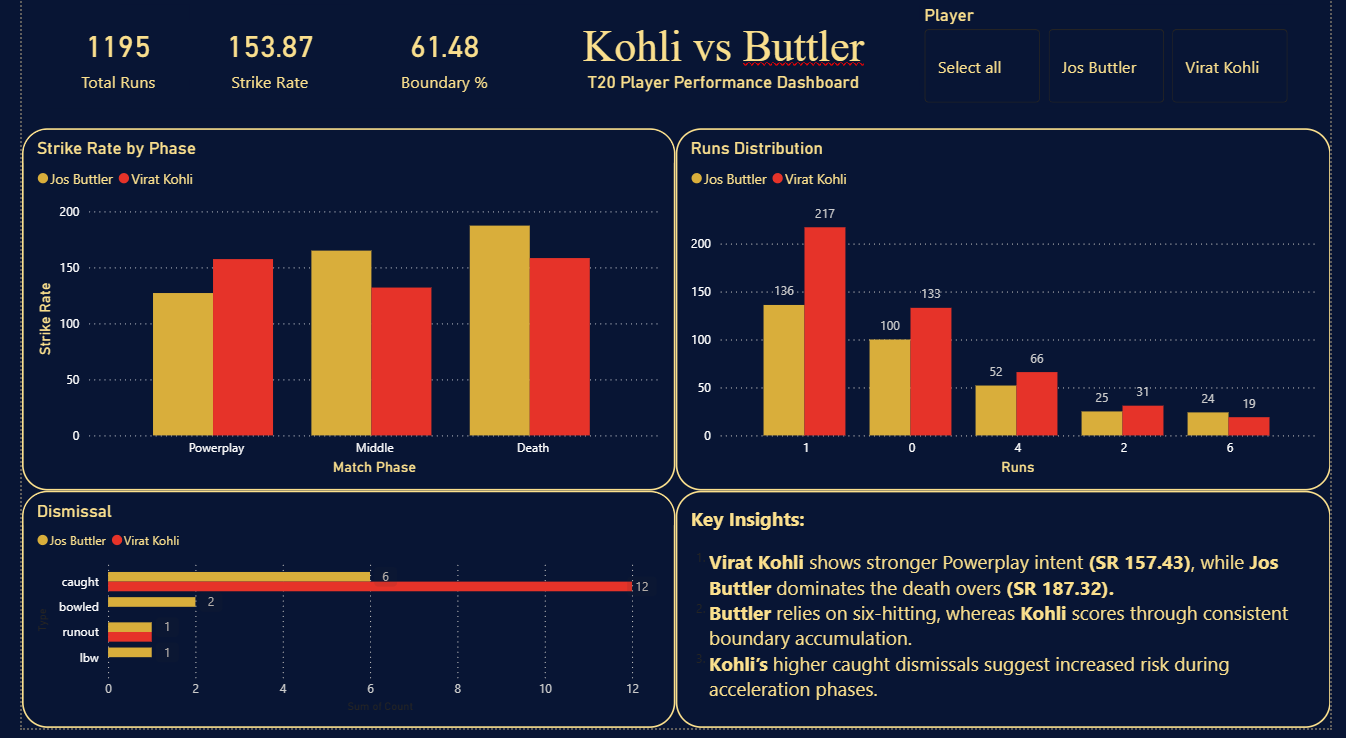

The page's visual inventory and layout, read from the dashboard file:
{"tool":"powerbi","page":{"name":"Page 2","canvas":[1280,720],"ordinal":1},"visuals":[{"type":"group","id":"g1","title":"Group 1","box":[24.5,12.2,479.4,101.5],"z":0},{"type":"card","title":"Total Runs","fields":{"Values":["Sum(summary.Runs)"]},"box":[24.5,12.2,140,101.5],"z":0,"group":"g1"},{"type":"advancedSlicerVisual","fields":{"Values":["summary.Player"]},"box":[887.8,11,365.6,101.5],"z":1000},{"type":"card","fields":{"Values":["Avg(summary.Strike Rate)"]},"box":[164.5,12.2,157.8,101.5],"z":1000,"group":"g1"},{"type":"card","fields":{"Values":["Avg(summary.Boundary %)"]},"box":[322.3,12.2,181.1,101.5],"z":2000,"group":"g1"},{"type":"clusteredColumnChart","title":"Strike Rate by Phase","fields":{"Category":["phase.match phase"],"Y":["Sum(phase.Strike Rate)"],"Series":["phase.Player"]},"box":[0,152.3,639.5,355.4],"z":2000},{"type":"clusteredColumnChart","title":"Runs Distribution","fields":{"Category":["distribution.Runs"],"Y":["Sum(distribution.Count)"],"Series":["distribution.Player"]},"box":[639.5,152.3,640.8,355.4],"z":3000},{"type":"clusteredBarChart","title":"Dismissal","fields":{"Category":["dismissal.Type"],"Y":["Sum(dismissal.Count)"],"Series":["dismissal.Player"]},"box":[0,507.7,639.5,212.7],"z":4000},{"type":"textbox","box":[639.5,507.7,640.8,212.7],"z":5000},{"type":"textbox","box":[494,23.2,384,80.7],"z":5001}]}

Visuals, with their boxes in screenshot pixels (x1, y1, x2, y2), scaled from the page's 1280x720 canvas onto the 1346x738 screenshot:
"Group 1" group: {"x1": 26, "y1": 13, "x2": 530, "y2": 117}
"Total Runs" card: {"x1": 26, "y1": 13, "x2": 173, "y2": 117}
advancedSlicerVisual - summary.Player: {"x1": 934, "y1": 11, "x2": 1318, "y2": 115}
card - Avg(summary.Strike Rate): {"x1": 173, "y1": 13, "x2": 339, "y2": 117}
card - Avg(summary.Boundary %): {"x1": 339, "y1": 13, "x2": 529, "y2": 117}
"Strike Rate by Phase" clusteredColumnChart: {"x1": 0, "y1": 156, "x2": 672, "y2": 520}
"Runs Distribution" clusteredColumnChart: {"x1": 672, "y1": 156, "x2": 1345, "y2": 520}
"Dismissal" clusteredBarChart: {"x1": 0, "y1": 520, "x2": 672, "y2": 737}
textbox: {"x1": 672, "y1": 520, "x2": 1345, "y2": 737}
textbox: {"x1": 519, "y1": 24, "x2": 923, "y2": 106}
